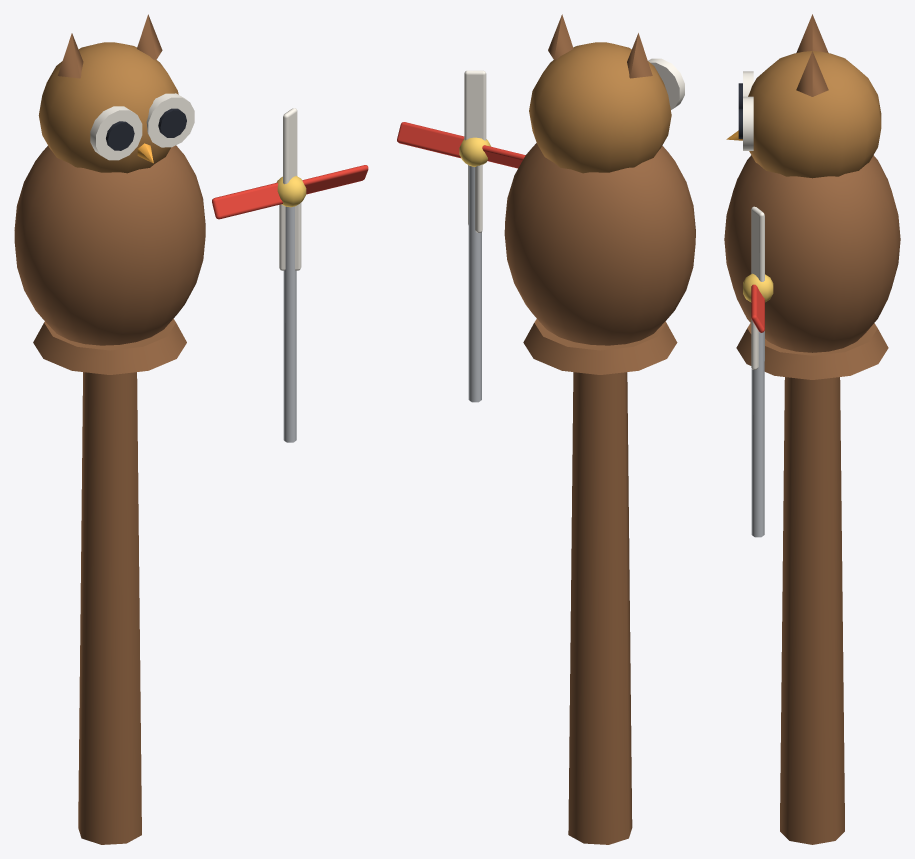
File: scarecrow-owl.glb
3 renders of one model, left to right at view 1: azimuth 30°, elevation 25°; view 2: azimuth 150°, elevation 25°; view 3: azimuth 270°, elevation 25°, orthographic.
Bounding box in the file's own units: 0.891 × 2.19 × 0.4374.
